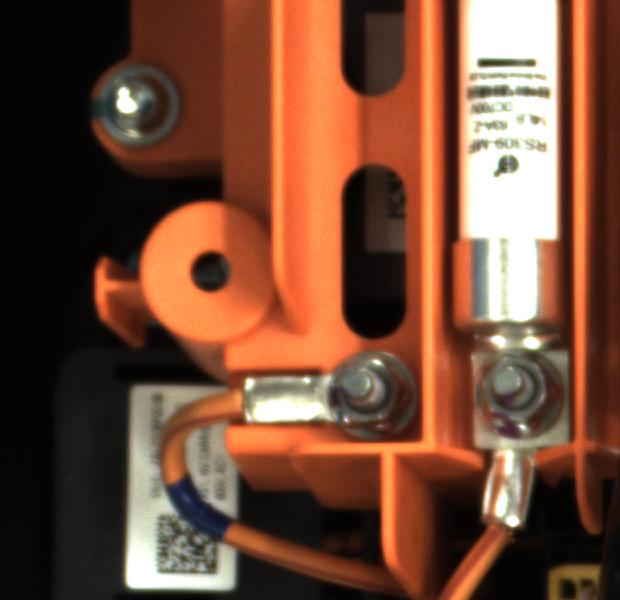screw_m: (93, 56, 196, 158)
screw_s: (464, 351, 577, 437), (316, 349, 406, 430)
